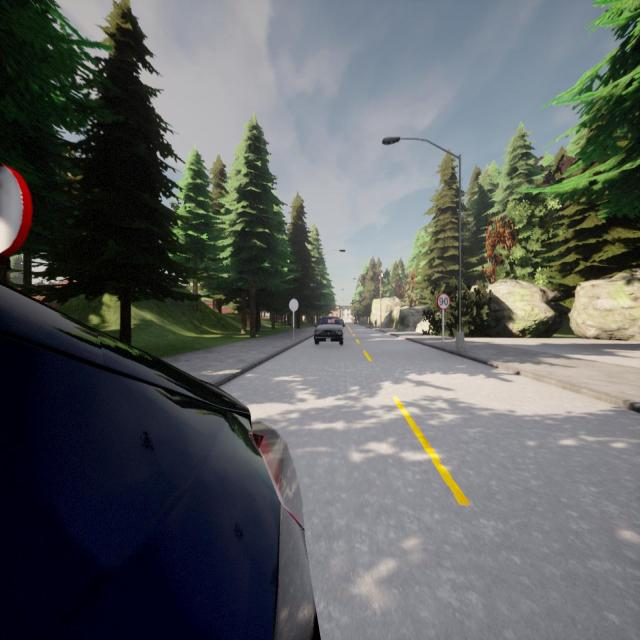Traffic_Signs: (1, 162, 32, 260), (436, 293, 449, 309), (289, 298, 299, 312)
Vehicle: (0, 282, 318, 638), (314, 316, 343, 348)
